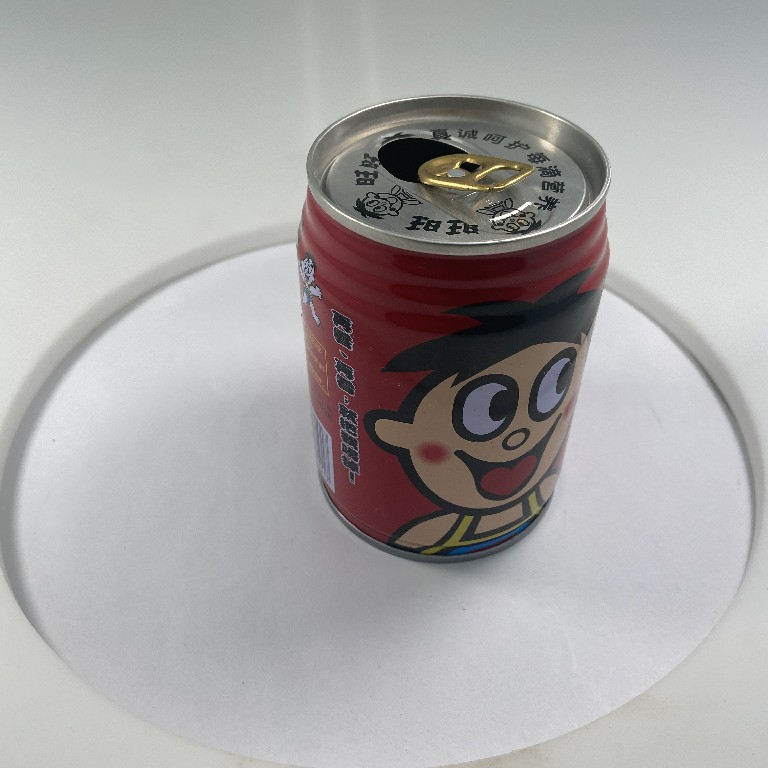can: (289, 89, 614, 567)
